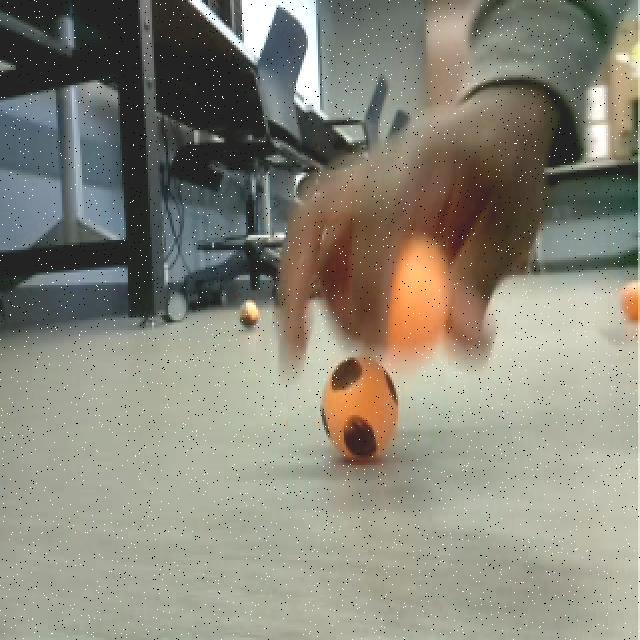ping-pong-ball: (371, 233, 463, 361), (314, 350, 406, 470), (234, 290, 264, 336), (616, 277, 640, 325)
